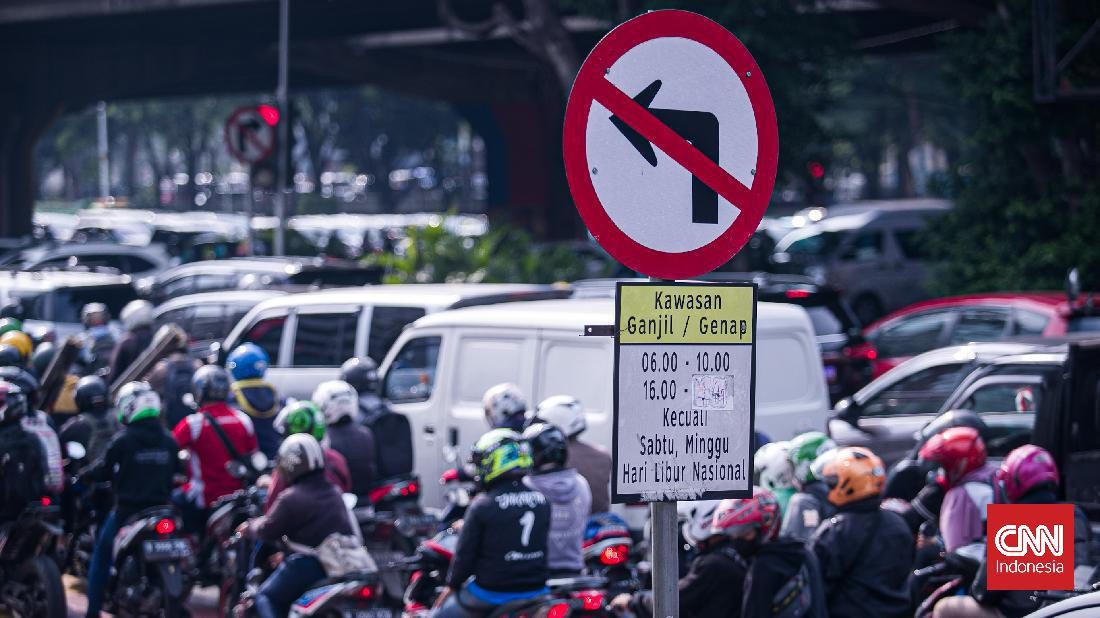sola_girilmez: (558, 7, 778, 280)
yaya: (81, 389, 230, 613), (802, 447, 940, 617), (241, 438, 372, 609), (430, 452, 565, 617)
